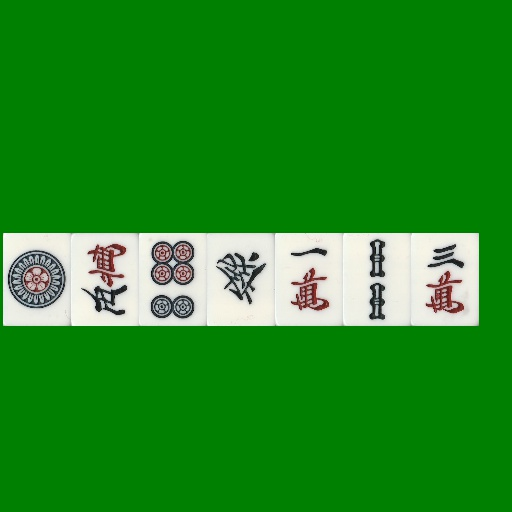1m: (275, 233, 343, 326)
1p: (3, 233, 71, 326)
2s: (343, 233, 411, 326)
3m: (411, 233, 479, 326)
5m: (71, 233, 139, 326)
6p: (139, 233, 207, 326)
hatsu: (207, 233, 275, 326)
